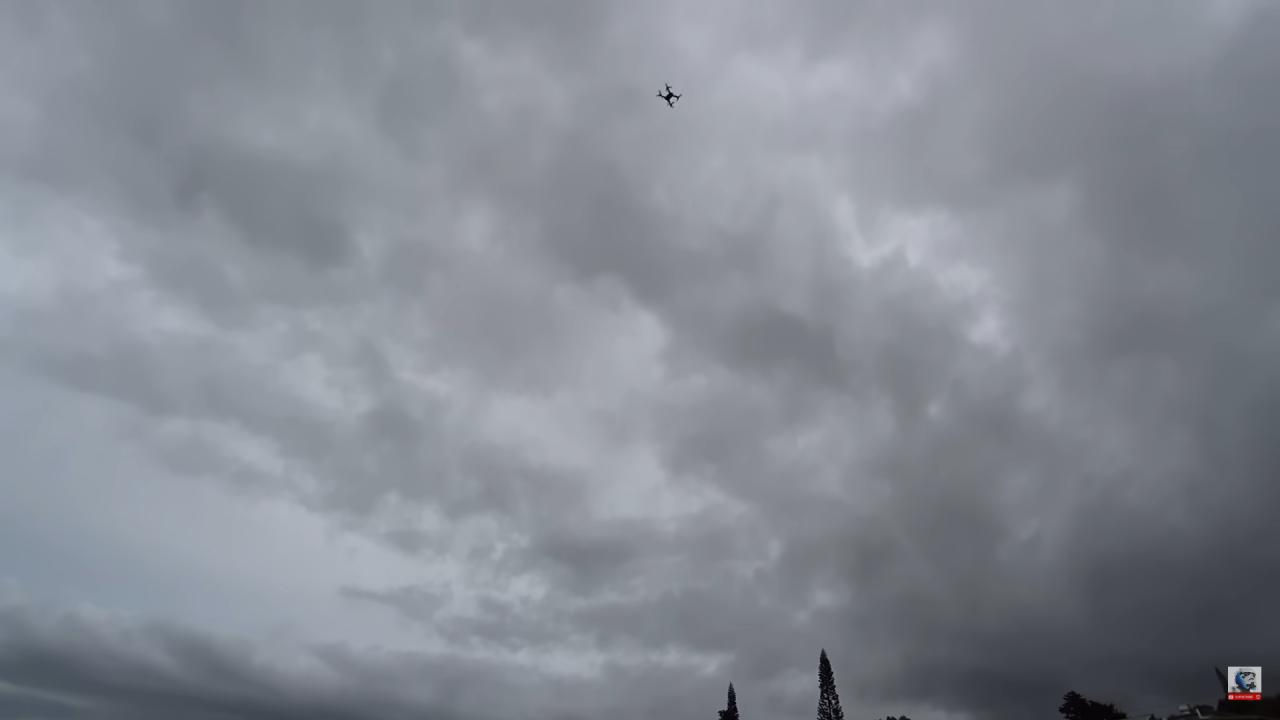Drone: (649, 78, 687, 115)
